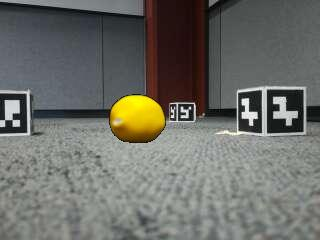lemon: (109, 96, 163, 144)
